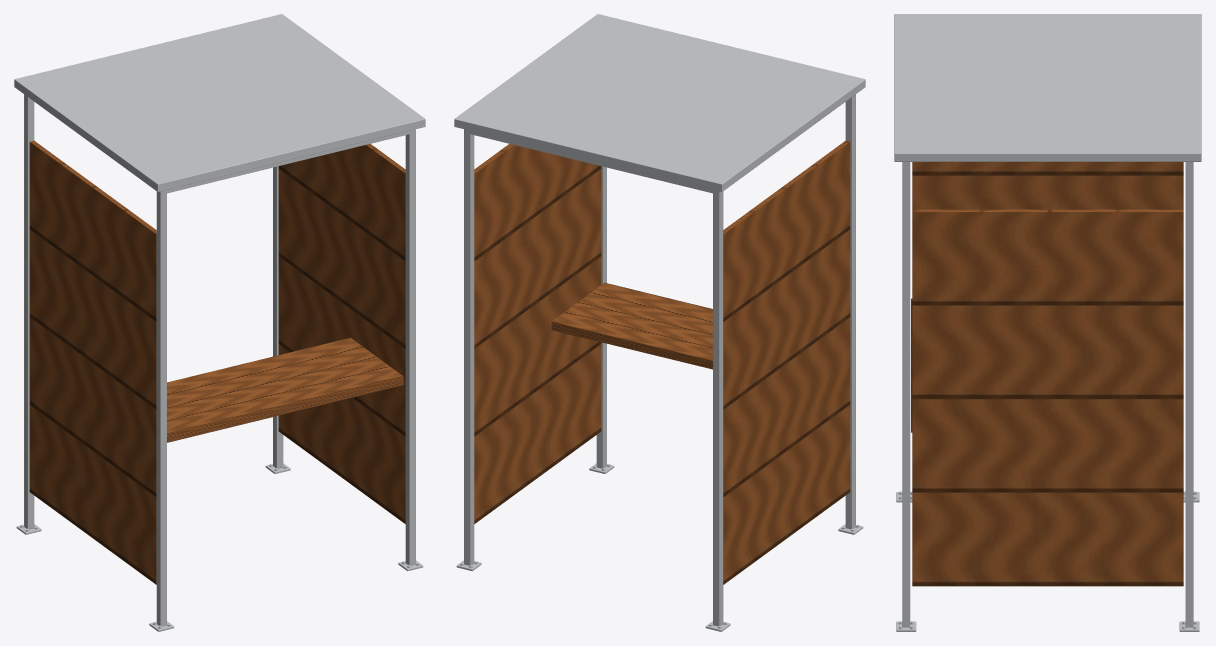
The model's file is fps-weapon-set-and-firing-range-lane-booth-81401825__19491.glb.
3 renders of one model, left to right at view 1: azimuth 30°, elevation 25°; view 2: azimuth 150°, elevation 25°; view 3: azimuth 270°, elevation 25°, orthographic. The views are drawn at different scales.
Parts seen in each view (by area): view 1: lane-booth; view 2: lane-booth; view 3: lane-booth.
Boxes of the visible parts, left/top/right/bottom form: lane-booth: left=14, top=14, right=425, bottom=631; lane-booth: left=454, top=14, right=865, bottom=631; lane-booth: left=894, top=14, right=1201, bottom=631.
Size of the model in its own units: 1.4 by 2.24 by 1.3.
Materials: 2 (1 with a texture image).
